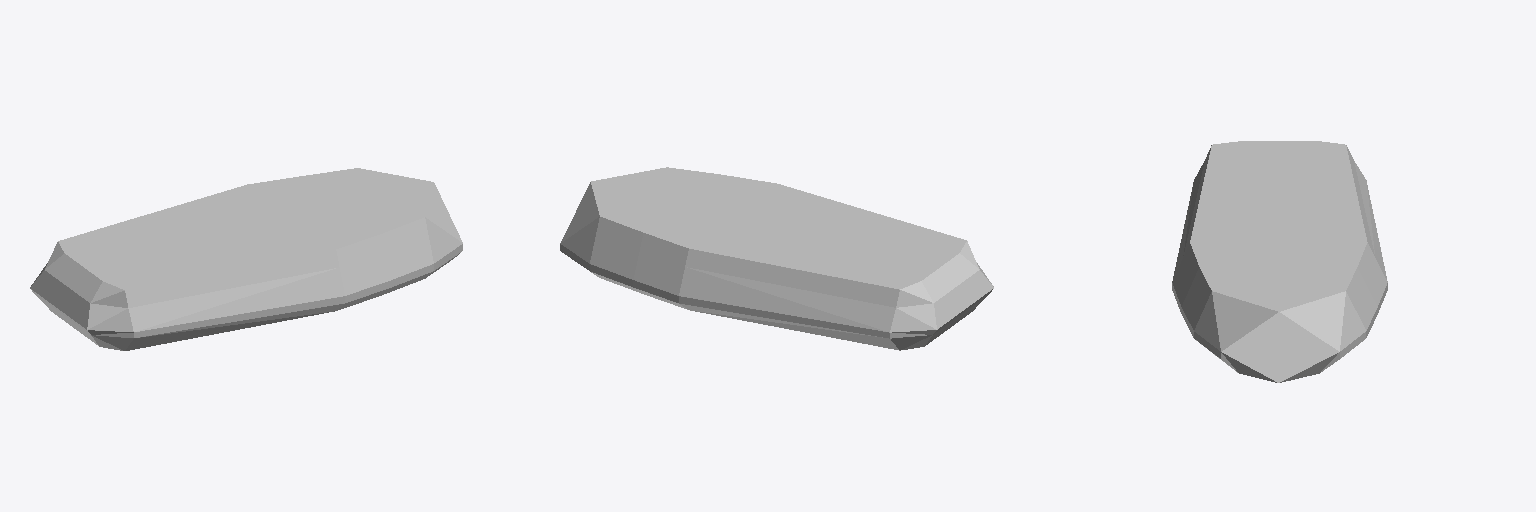
The model's file is wieza.obj.
3 views of the same model, side by side, from view 1: azimuth 30°, elevation 25°; view 2: azimuth 150°, elevation 25°; view 3: azimuth 270°, elevation 25° (orthographic).
Visible parts, largest first — view 1: Cube.001; view 2: Cube.001; view 3: Cube.001.
Boxes of the visible parts, x1,y1,x2,y2 form: Cube.001: [30, 168, 462, 350]; Cube.001: [560, 167, 993, 350]; Cube.001: [1172, 141, 1387, 382].
Bounding box in the file's own units: 4.76 × 0.7102 × 2.25.